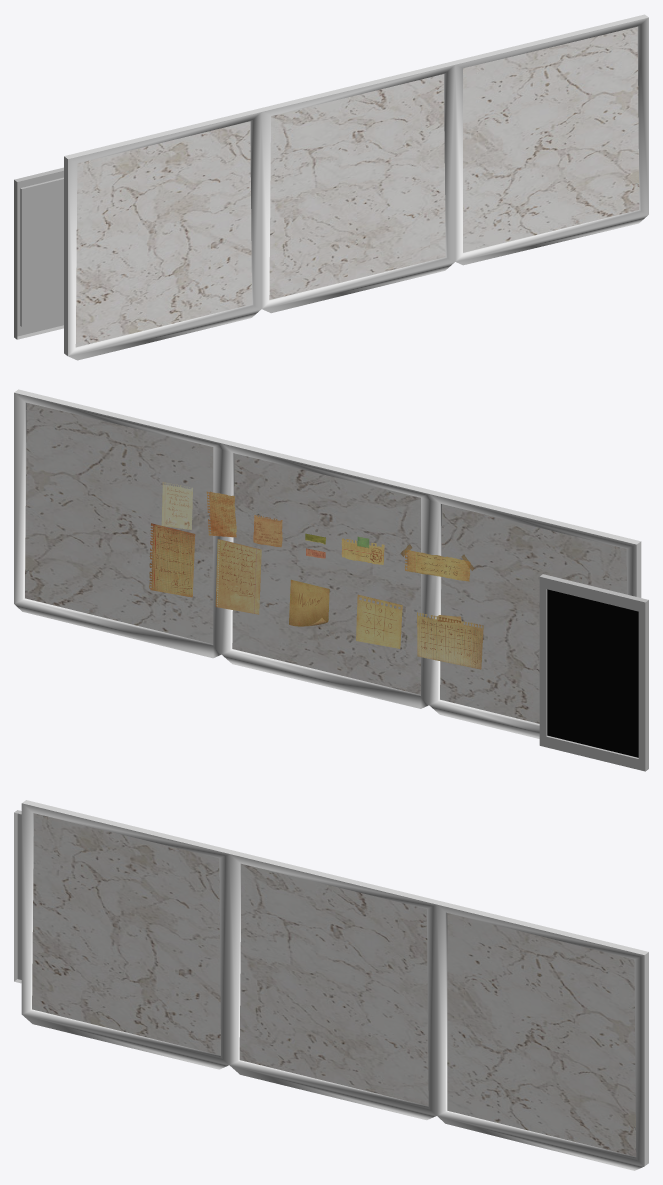
The model's file is PartitionPostitFrame.fbx.
3 views of the same model, one above another, from view 1: azimuth 30°, elevation 25°; view 2: azimuth 150°, elevation 25°; view 3: azimuth 330°, elevation 25° (orthographic). The views are drawn at different scales.
Parts seen in each view (by area): view 1: FRAME, PortraitFrameClean; view 2: FRAME, PortraitFrameClean, PostitusedClean.010, PostitusedClean.002, PostitusedClean.011, PostitusedClean.001, PostitusedClean, PostitusedClean.003, PostitusedClean.009, PostitusedClean.008, PostitusedClean.004, PostitusedClean.007; view 3: FRAME, PortraitFrameClean.
Part boxes in pixels (<box>): FRAME: <box>64,14,648,360</box>; PortraitFrameClean: <box>14,167,63,339</box>; FRAME: <box>14,389,641,738</box>; PortraitFrameClean: <box>539,574,648,771</box>; PostitusedClean.010: <box>215,539,261,614</box>; PostitusedClean.002: <box>417,612,483,669</box>; PostitusedClean.011: <box>149,523,195,597</box>; PostitusedClean.001: <box>356,594,402,648</box>; PostitusedClean: <box>289,579,329,626</box>; PostitusedClean.003: <box>400,544,474,581</box>; PostitusedClean.009: <box>161,482,192,529</box>; PostitusedClean.008: <box>206,491,236,537</box>; PostitusedClean.004: <box>341,536,384,564</box>; PostitusedClean.007: <box>253,515,282,547</box>; FRAME: <box>21,800,648,1170</box>; PortraitFrameClean: <box>14,810,21,983</box>.
Bounding box in the file's own units: 425 × 136 × 37.49.
